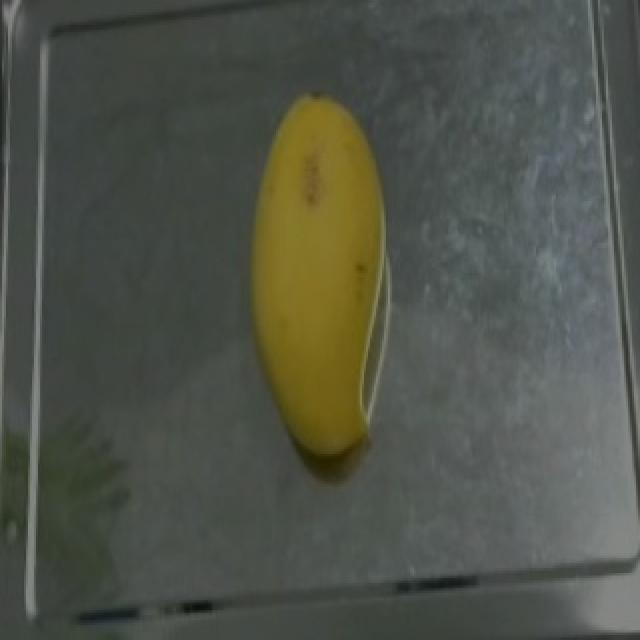fruit: (230, 84, 408, 477)
